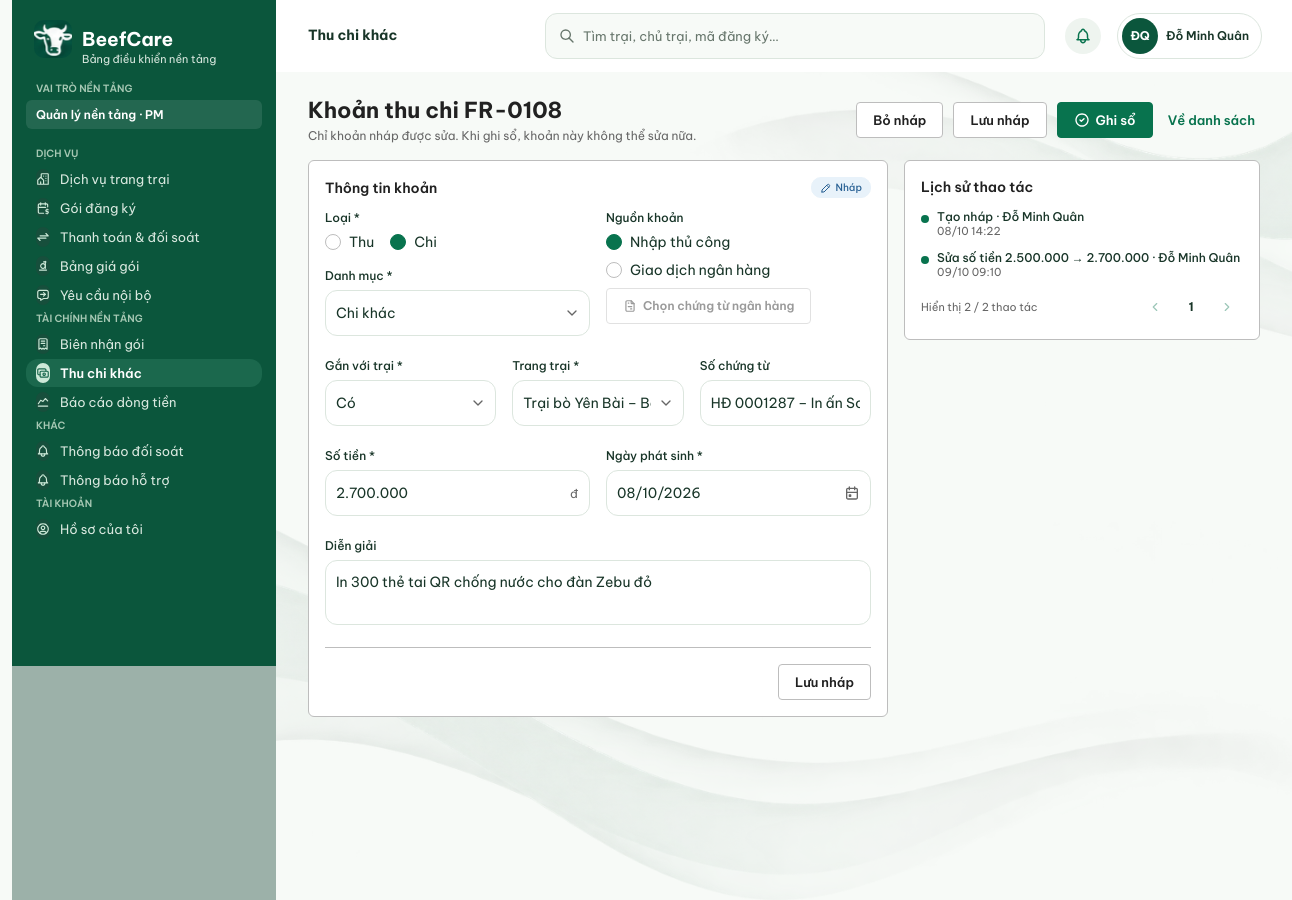
Test case: SCR-72 form khoản: không tự động lưu › sửa nháp chưa lưu thì Ghi sổ bị khóa, không lưu ngầm; lưu nháp xong mới ghi sổ được
The image size is (1292, 900).
Expected: the button "Ghi sổ" is enabled, top-left (1056, 102), bottom-right (1153, 138)
In the text box with id "fr-desc": [598, 593] box top-left (325, 560), bottom-right (871, 625), type " thêm"
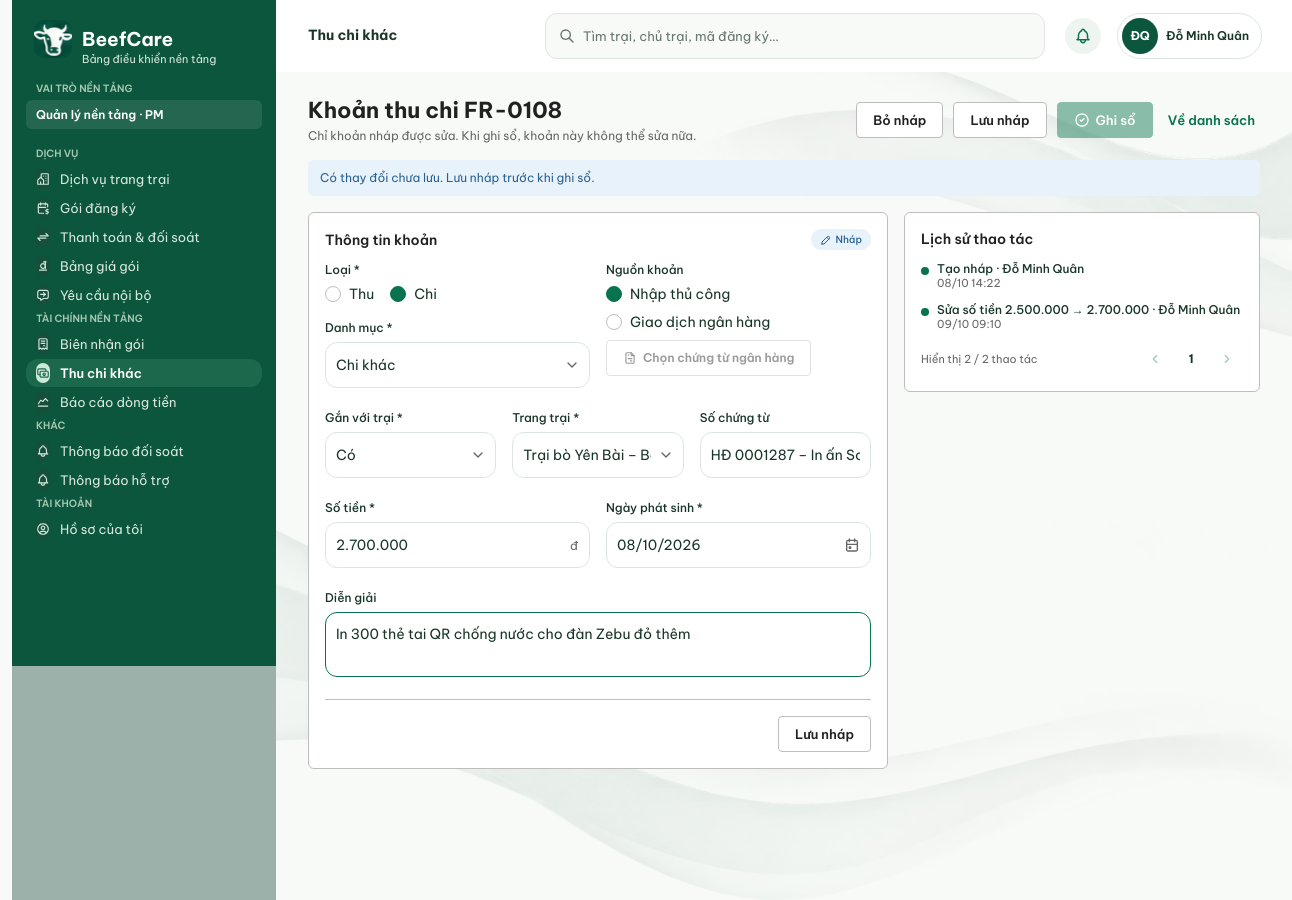
Expected: the button "Ghi sổ" is disabled, top-left (1056, 102), bottom-right (1153, 138)
Expected: the text "Có thay đổi chưa lưu. Lưu nháp trước khi ghi sổ." is shown, top-left (308, 160), bottom-right (1260, 196)
Click the button "Lưu nháp" in the row of "Khoản thu chi FR-0108": [1000, 120] box top-left (953, 102), bottom-right (1046, 138)
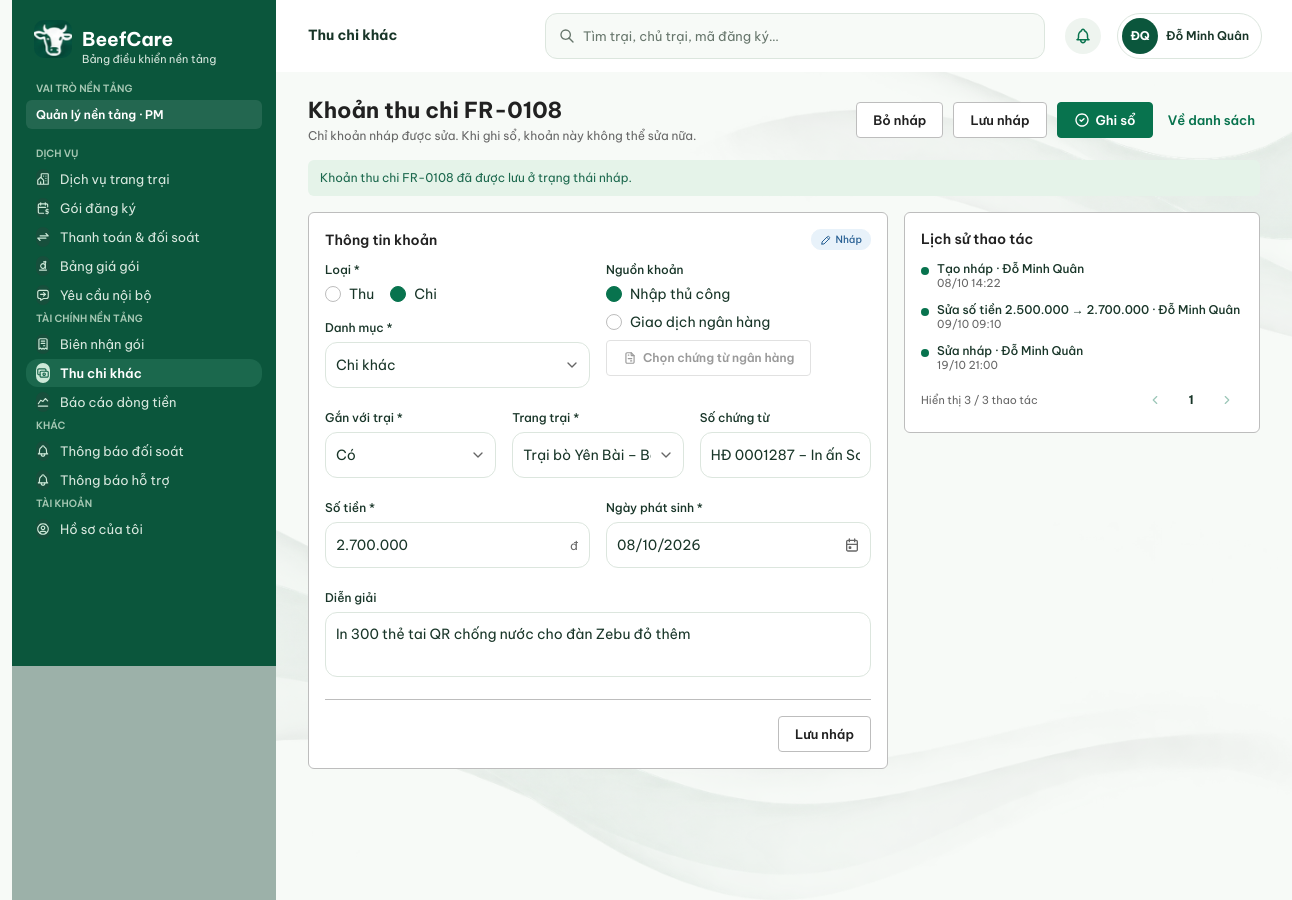
Expected: the text "Khoản thu chi FR-0108 đã được lưu ở trạng thái nháp." is shown, top-left (308, 160), bottom-right (1260, 196)
Expected: the button "Ghi sổ" is enabled, top-left (1056, 102), bottom-right (1153, 138)
